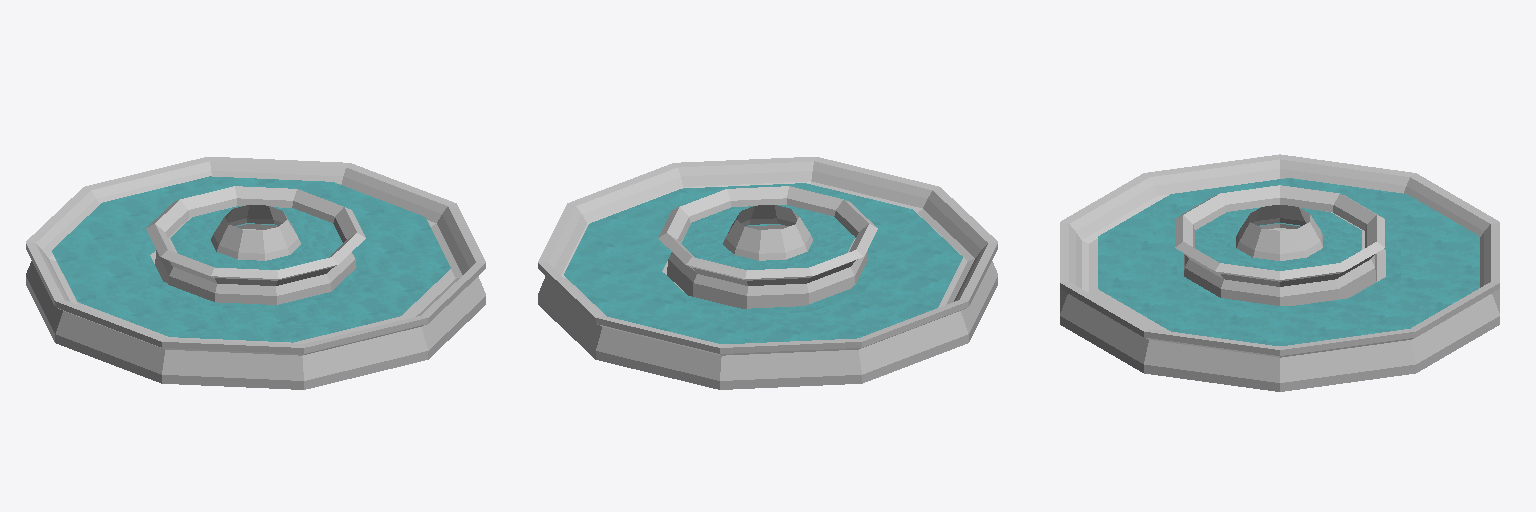
3 views of the same model, side by side, from view 1: azimuth 30°, elevation 25°; view 2: azimuth 150°, elevation 25°; view 3: azimuth 270°, elevation 25° (orthographic).
Parts seen in each view (by area): view 1: Water_fountain.001, Water_fountain.002, Water_fountain.003; view 2: Water_fountain.001, Water_fountain.002, Water_fountain.003; view 3: Water_fountain.001, Water_fountain.002, Water_fountain.003.
Boxes of the visible parts, x1=… form: Water_fountain.001: x1=26, y1=157, x2=485, y2=389; Water_fountain.002: x1=52, y1=176, x2=450, y2=342; Water_fountain.003: x1=170, y1=206, x2=342, y2=269; Water_fountain.001: x1=538, y1=157, x2=997, y2=389; Water_fountain.002: x1=564, y1=183, x2=962, y2=343; Water_fountain.003: x1=681, y1=205, x2=854, y2=269; Water_fountain.001: x1=1060, y1=154, x2=1499, y2=391; Water_fountain.002: x1=1098, y1=178, x2=1479, y2=345; Water_fountain.003: x1=1195, y1=207, x2=1361, y2=270.
Size of the model in its own units: 40 by 7.29 by 38.04.
Materials: 3 (1 with a texture image).